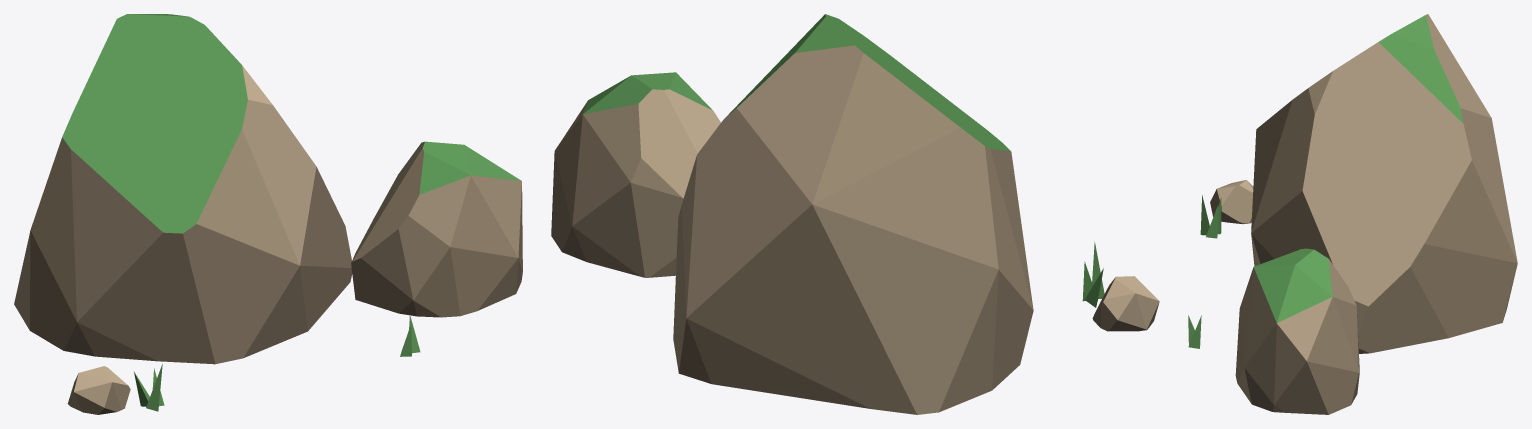
Rendered from ranch_border_rock_boulder.fbx.
The picture shows the model from 3 angles, left to right: view 1: azimuth 30°, elevation 25°; view 2: azimuth 150°, elevation 25°; view 3: azimuth 270°, elevation 25°; orthographic projection. The views are drawn at different scales.
Visible parts, largest first — view 1: ranch_border_rock_boulder; view 2: ranch_border_rock_boulder; view 3: ranch_border_rock_boulder.
Boxes of the visible parts, x1,y1,x2,y2 form: ranch_border_rock_boulder: (14, 14, 522, 414); ranch_border_rock_boulder: (551, 14, 1159, 414); ranch_border_rock_boulder: (1188, 14, 1517, 414).
Size of the model in its own units: 11.81 by 6.67 by 7.58.
